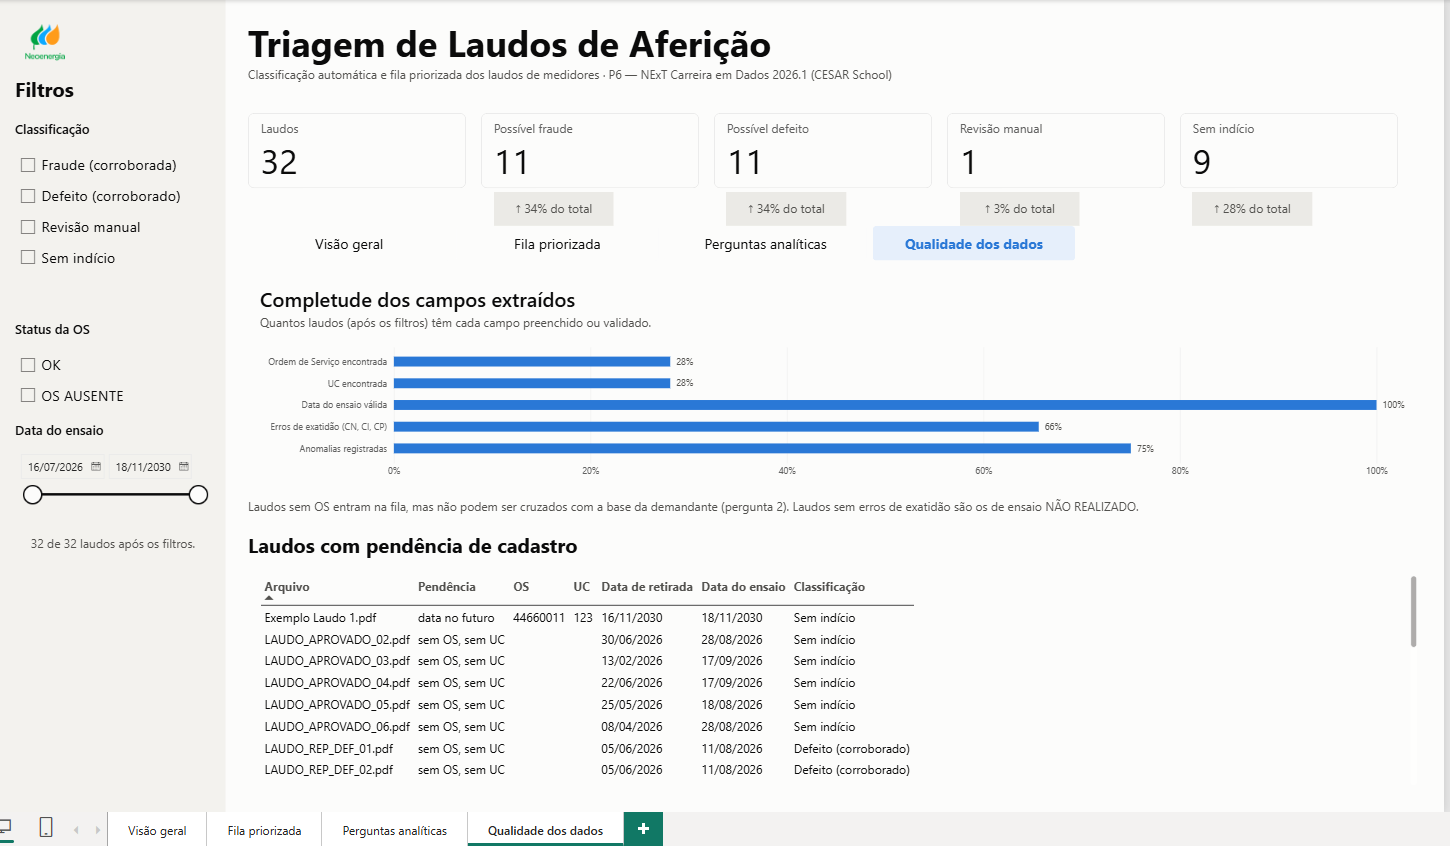

The page's visual inventory and layout, read from the dashboard file:
{"tool":"powerbi","page":{"name":"Qualidade dos dados","canvas":[1920,1080],"ordinal":3},"visuals":[{"type":"textbox","box":[0,0,300,1080],"z":0},{"type":"image","box":[24,20,72,72],"z":1000},{"type":"textbox","box":[20,100,260,50],"z":2000},{"type":"slicer","title":"Classificação","fields":{"Values":["public laudos.classificacao_curta"]},"box":[20,160,260,250],"z":3000},{"type":"slicer","title":"Status da OS","fields":{"Values":["public laudos.status_os"]},"box":[20,425,260,120],"z":4000},{"type":"slicer","title":"Data do ensaio","fields":{"Values":["public laudos.data_ensaio_dt"]},"box":[20,560,260,120],"z":5000},{"type":"card","fields":{"Values":["public laudos.Laudos filtrados"]},"box":[20,699.6,260.7,51.9],"z":6000},{"type":"textbox","box":[330,24,1570,120],"z":7000},{"type":"cardVisual","fields":{"Data":["public laudos.Total de laudos"]},"box":[330,150,290,100],"z":8000},{"type":"cardVisual","fields":{"Data":["public laudos.Laudos possível fraude"]},"box":[640,150,290,100],"z":9000},{"type":"card","fields":{"Values":["public laudos.Pill fraude"]},"box":[656.5,255.3,159,45.2],"z":10000},{"type":"cardVisual","fields":{"Data":["public laudos.Laudos possível defeito"]},"box":[950,150,290,100],"z":11000},{"type":"card","fields":{"Values":["public laudos.Pill defeito"]},"box":[965.8,255.3,160.5,45.2],"z":12000},{"type":"cardVisual","fields":{"Data":["public laudos.Laudos revisão manual"]},"box":[1260,150,290,100],"z":13000},{"type":"card","fields":{"Values":["public laudos.Pill revisão"]},"box":[1276.6,255.3,159,45.2],"z":14000},{"type":"cardVisual","fields":{"Data":["public laudos.Laudos sem indício"]},"box":[1570,150,290,100],"z":15000},{"type":"card","fields":{"Values":["public laudos.Pill sem indício"]},"box":[1585.9,255.3,160.5,45.2],"z":16000},{"type":"pageNavigator","box":[330,300,1100,46],"z":17000},{"type":"barChart","title":"Completude dos campos extraídos","fields":{"Category":["completude.Campo"],"Y":["completude.% preenchido"]},"box":[330,366,1570,290],"z":18000},{"type":"textbox","box":[330,662,1570,36],"z":19000},{"type":"textbox","box":[330,706,1570,40],"z":20000},{"type":"tableEx","fields":{"Values":["pendencias.arquivo","pendencias.pendencia","pendencias.ordem_servico","pendencias.uc","pendencias.dt_retirada","pendencias.data_ensaio","pendencias.classificacao_curta"]},"box":[329.9,751.5,1570.8,308.6],"z":22000}]}

Visuals, with their boxes on the page's 1920x1080 design canvas (x1, y1, x2, y2). These are canvas units, not pixel positions in the 1450x846 screenshot, which may show the page scaled, cropped or inside an application window:
textbox: bbox=[0, 0, 300, 1080]
image: bbox=[24, 20, 96, 92]
textbox: bbox=[20, 100, 280, 150]
"Classificação" slicer: bbox=[20, 160, 280, 410]
"Status da OS" slicer: bbox=[20, 425, 280, 545]
"Data do ensaio" slicer: bbox=[20, 560, 280, 680]
card - public laudos.Laudos filtrados: bbox=[20, 700, 281, 752]
textbox: bbox=[330, 24, 1900, 144]
cardVisual - public laudos.Total de laudos: bbox=[330, 150, 620, 250]
cardVisual - public laudos.Laudos possível fraude: bbox=[640, 150, 930, 250]
card - public laudos.Pill fraude: bbox=[656, 255, 816, 300]
cardVisual - public laudos.Laudos possível defeito: bbox=[950, 150, 1240, 250]
card - public laudos.Pill defeito: bbox=[966, 255, 1126, 300]
cardVisual - public laudos.Laudos revisão manual: bbox=[1260, 150, 1550, 250]
card - public laudos.Pill revisão: bbox=[1277, 255, 1436, 300]
cardVisual - public laudos.Laudos sem indício: bbox=[1570, 150, 1860, 250]
card - public laudos.Pill sem indício: bbox=[1586, 255, 1746, 300]
pageNavigator: bbox=[330, 300, 1430, 346]
"Completude dos campos extraídos" barChart: bbox=[330, 366, 1900, 656]
textbox: bbox=[330, 662, 1900, 698]
textbox: bbox=[330, 706, 1900, 746]
tableEx - pendencias.arquivo x pendencias.pendencia: bbox=[330, 752, 1901, 1060]
